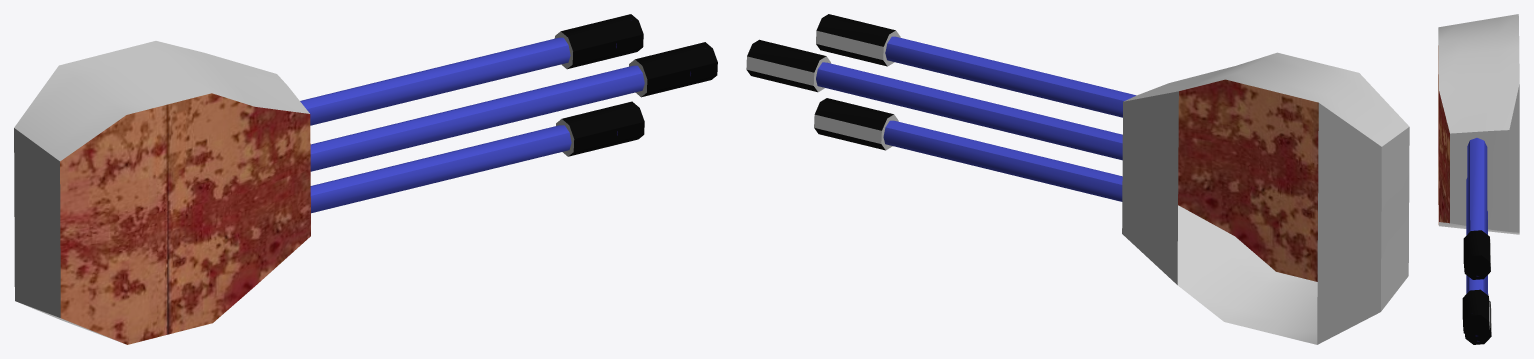
The model's file is tankboss-weapon.fbx.
3 views of the same model, side by side, from view 1: azimuth 30°, elevation 25°; view 2: azimuth 150°, elevation 25°; view 3: azimuth 270°, elevation 25° (orthographic). The views are drawn at different scales.
Visible parts, largest first — view 1: Cube_Nonerot-meta, Cube_Nonegr_n-met, Cube_Noneblue.png, Cube_NoneBlack.pn; view 2: Cube_Nonegr_n-met, Cube_Nonerot-meta, Cube_Noneblue.png, Cube_NoneBlack.pn; view 3: Cube_Nonegr_n-met, Cube_NoneBlack.pn, Cube_Noneblue.png, Cube_Nonerot-meta.
Boxes of the visible parts, <box> form: Cube_Nonerot-meta: <box>60,93,310,344</box>; Cube_Nonegr_n-met: <box>14,31,647,342</box>; Cube_Noneblue.png: <box>300,37,644,213</box>; Cube_NoneBlack.pn: <box>561,14,717,156</box>; Cube_Nonegr_n-met: <box>746,30,1409,344</box>; Cube_Nonerot-meta: <box>1178,79,1318,281</box>; Cube_Noneblue.png: <box>816,36,1136,201</box>; Cube_NoneBlack.pn: <box>747,14,895,150</box>; Cube_Nonegr_n-met: <box>1438,14,1519,335</box>; Cube_NoneBlack.pn: <box>1462,230,1491,344</box>; Cube_Noneblue.png: <box>1466,138,1488,294</box>; Cube_Nonerot-meta: <box>1438,45,1449,224</box>.
Bounding box in the file's own units: 7.78 × 2.81 × 1.11.
